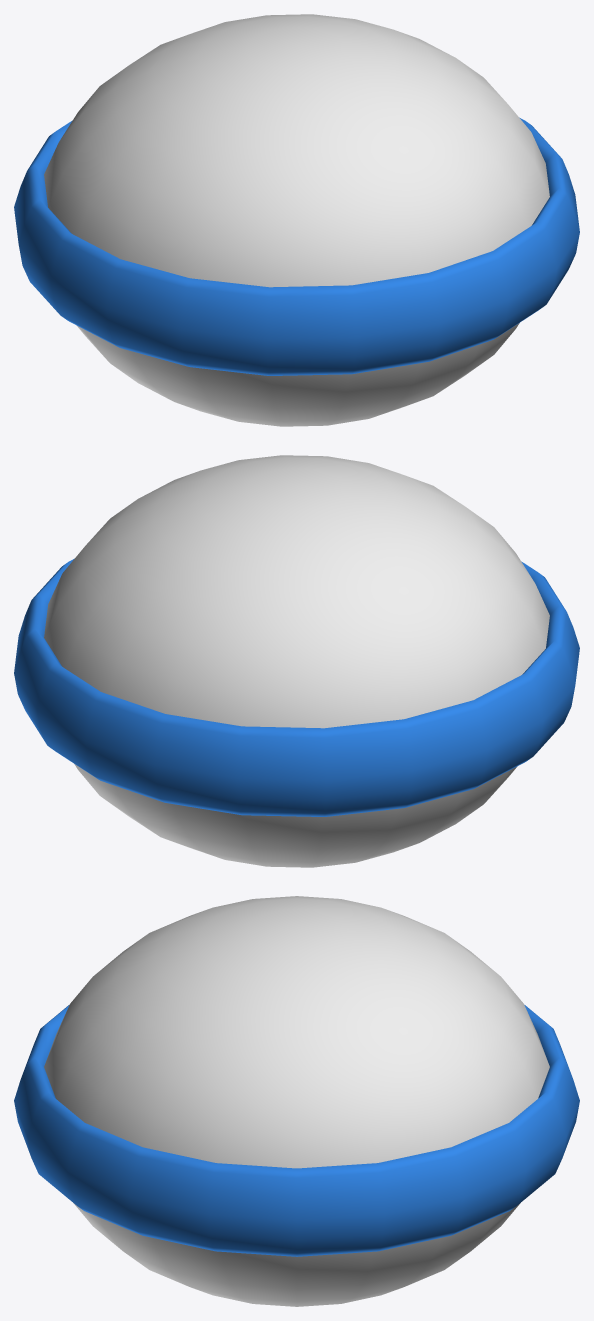
The model's file is pickups_magnet.fbx.
3 views of the same model, one above another, from view 1: azimuth 30°, elevation 25°; view 2: azimuth 150°, elevation 25°; view 3: azimuth 270°, elevation 25° (orthographic).
Visible parts, largest first — view 1: GlassSpeere.002, Outertorus.006; view 2: GlassSpeere.002, Outertorus.006; view 3: GlassSpeere.002, Outertorus.006.
Boxes of the visible parts, x1,y1,x2,y2 form: GlassSpeere.002: (44, 14, 549, 426); Outertorus.006: (14, 117, 579, 375); GlassSpeere.002: (44, 455, 549, 867); Outertorus.006: (14, 558, 579, 816); GlassSpeere.002: (44, 896, 549, 1306); Outertorus.006: (14, 1005, 579, 1256).
Size of the model in its own units: 260 by 176 by 260.
